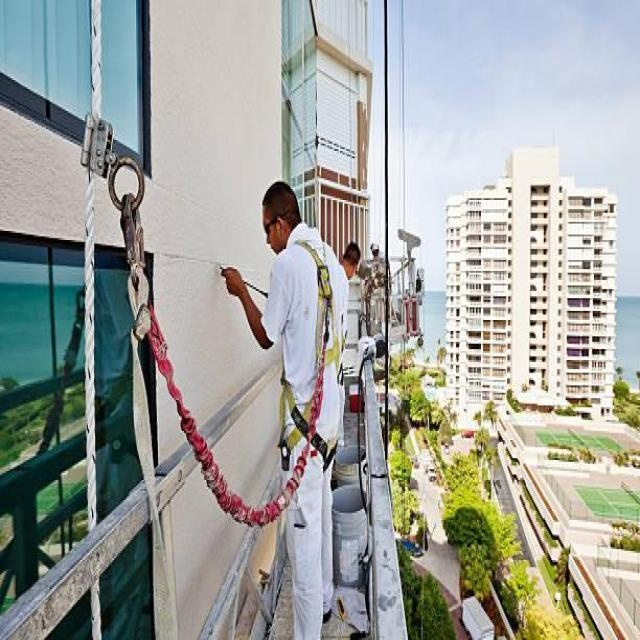Arnes_seguridad: (278, 233, 343, 475)
